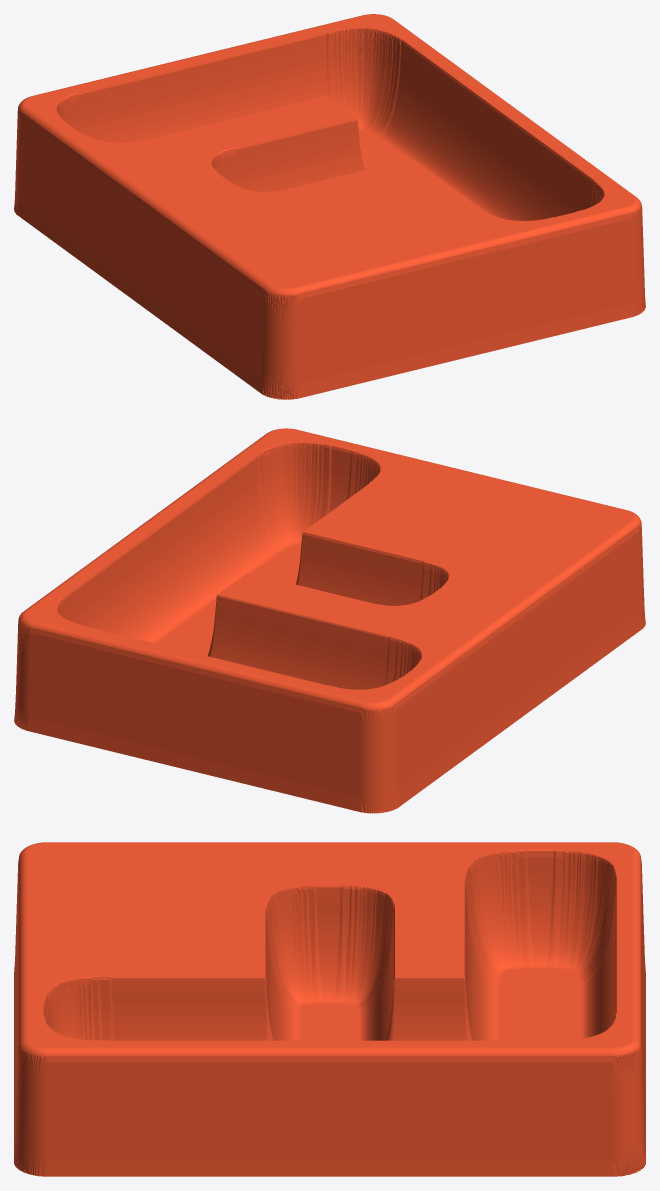
The model's file is mold.glb.
3 renders of one model, top to bottom at view 1: azimuth 30°, elevation 25°; view 2: azimuth 150°, elevation 25°; view 3: azimuth 270°, elevation 25°, orthographic. The views are drawn at different scales.
Visible parts, largest first — view 1: geometry_0; view 2: geometry_0; view 3: geometry_0.
Boxes of the visible parts, x1,y1,x2,y2 form: geometry_0: [14, 14, 645, 399]; geometry_0: [14, 428, 645, 813]; geometry_0: [14, 842, 645, 1176].
Bounding box in the file's own units: 0.1365 × 0.0365 × 0.1689.
